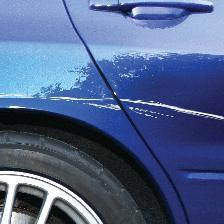door_scratch: (35, 62, 224, 163)
